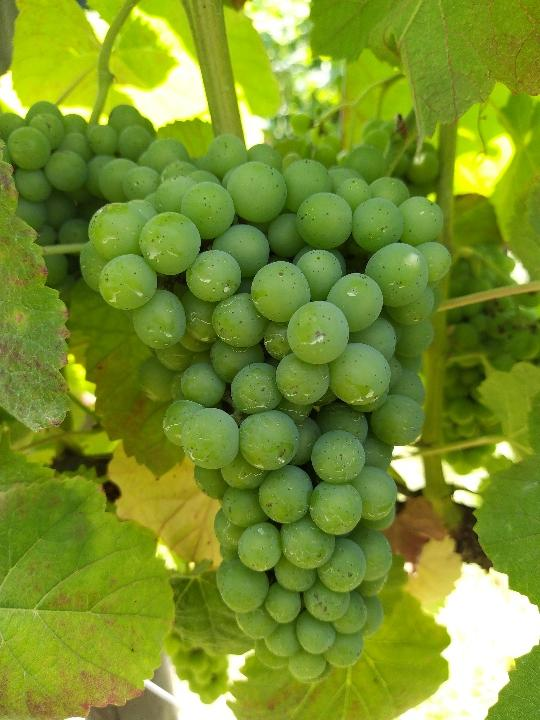grape: (70, 136, 450, 688)
